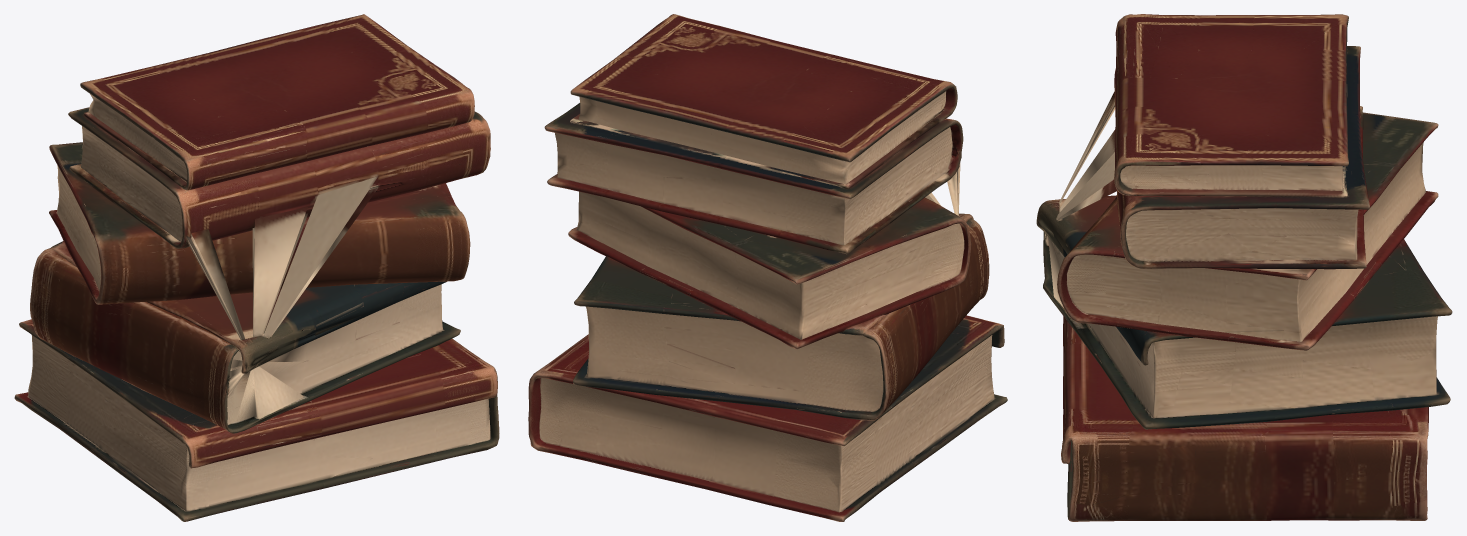
Rendered from ArchiveBookStack.fbx.
The picture shows the model from 3 angles, left to right: view 1: azimuth 30°, elevation 25°; view 2: azimuth 150°, elevation 25°; view 3: azimuth 270°, elevation 25°; orthographic projection. The views are drawn at different scales.
Parts seen in each view (by area): view 1: Mesh_0; view 2: Mesh_0; view 3: Mesh_0.
Boxes of the visible parts, x1,y1,x2,y2 form: Mesh_0: (14,14,499,521); Mesh_0: (528,14,1007,521); Mesh_0: (1036,14,1452,521).
Size of the model in its own units: 100 by 91.88 by 95.62.
1 material, 1 textured.
